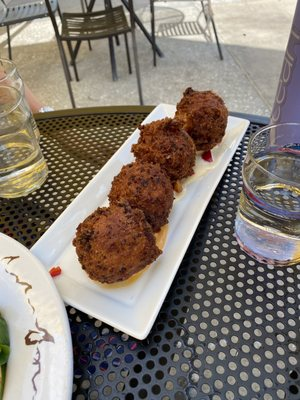sushi: (0, 231, 74, 400)
